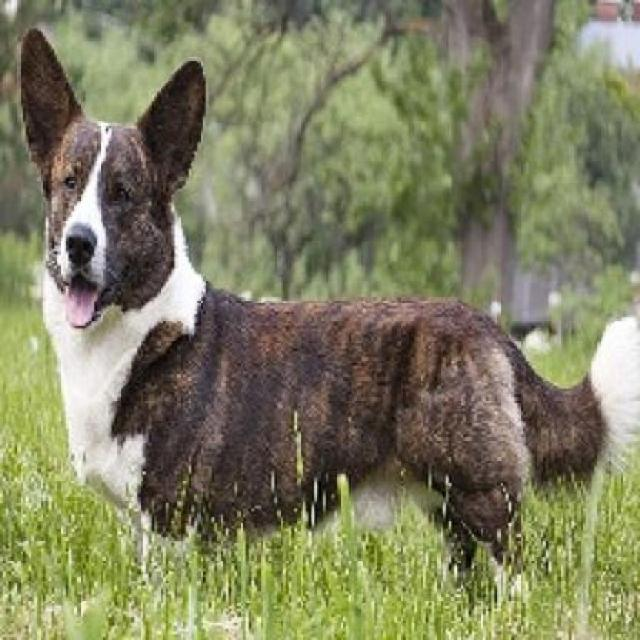Dog: (16, 28, 638, 609)
